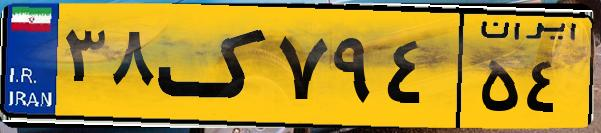3: (57, 26, 110, 100)
4: (385, 28, 445, 110), (525, 38, 570, 115)
5: (475, 38, 525, 113)
7: (270, 28, 330, 110)
8: (110, 28, 158, 98)
9: (330, 28, 385, 110)
ک: (158, 12, 270, 120)
